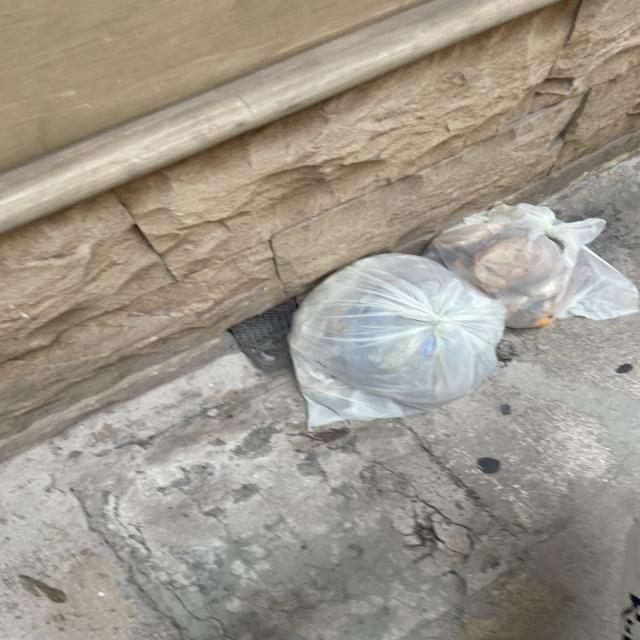white_bag: (275, 257, 519, 454), (434, 203, 633, 332)
